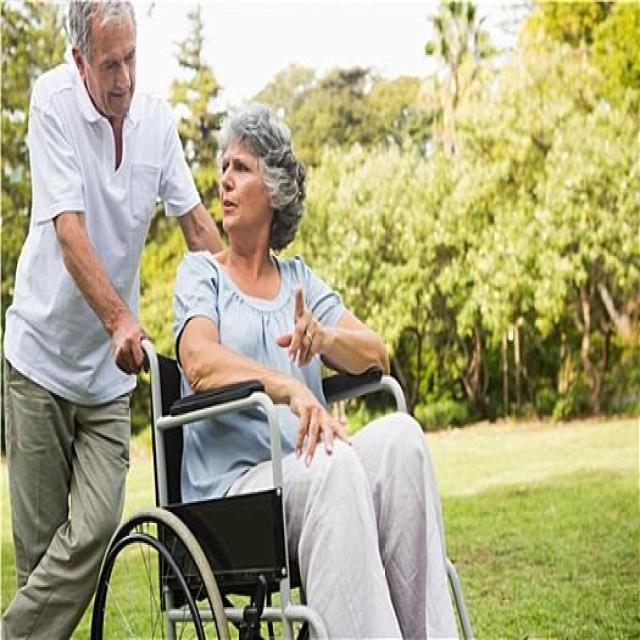wheelchairs: (87, 326, 477, 640)
